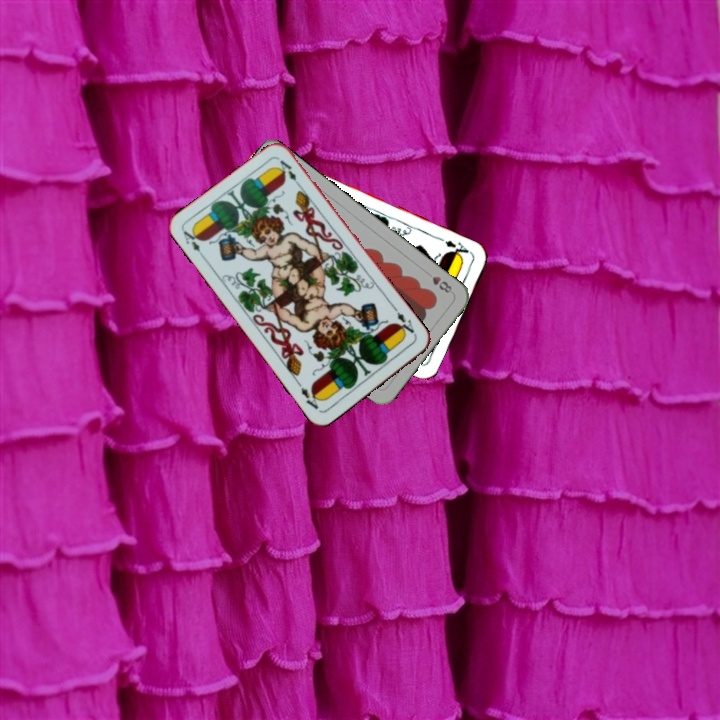EA: (179, 225, 208, 261), (390, 304, 419, 339), (441, 236, 474, 261)
H8: (422, 267, 454, 295)
